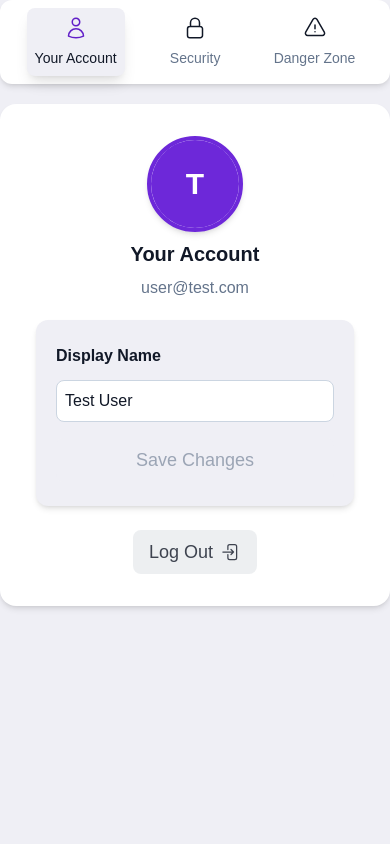
Test: UserProfile › switches to Danger Zone section
Click the tab "Danger Zone" at (315, 42), box [266,8,363,76]
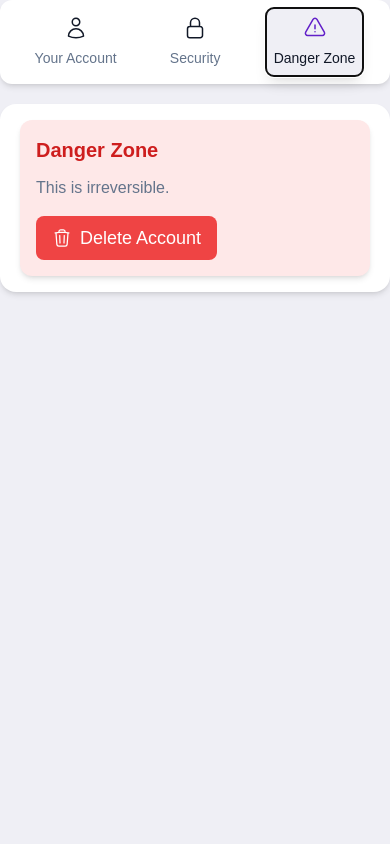
Now the text "This is irreversible." is shown, box [36,179,169,196]
